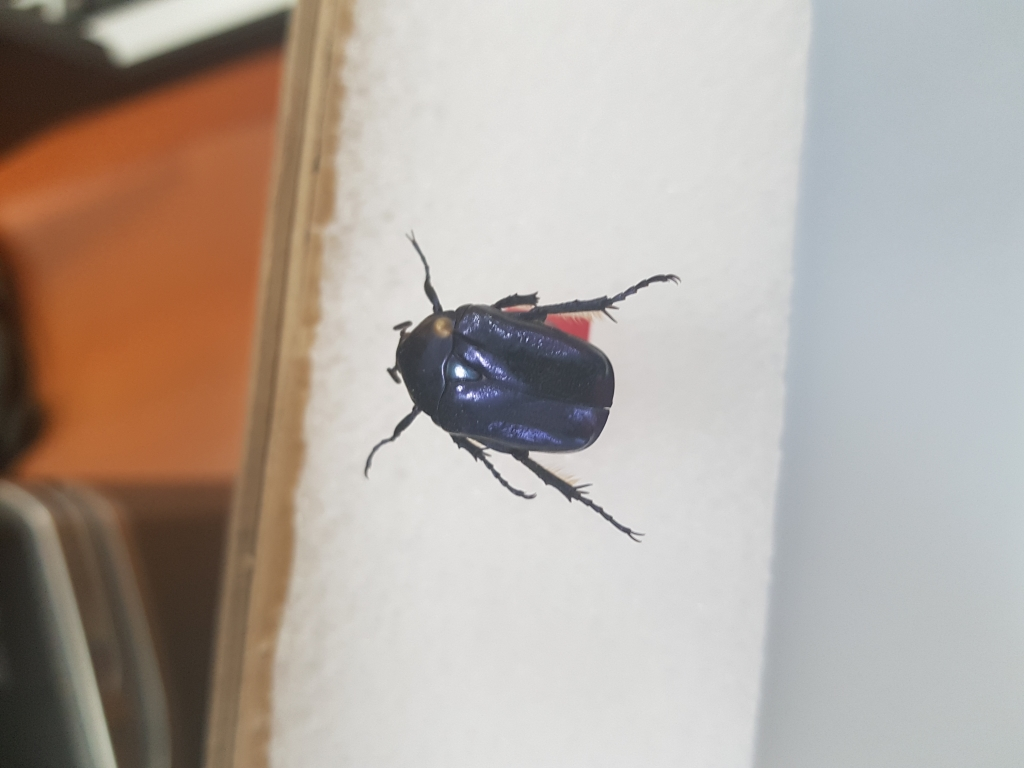Protaetia_besucheti: (349, 224, 688, 552)
